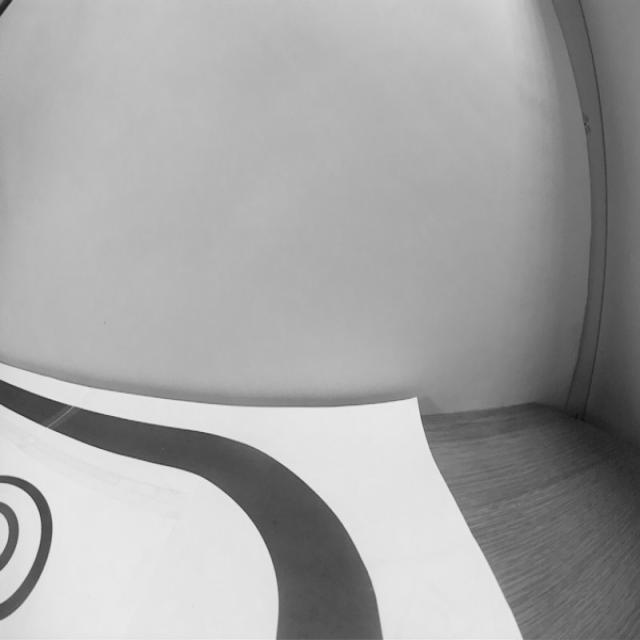laneLeftTurn: (190, 423, 388, 640)
